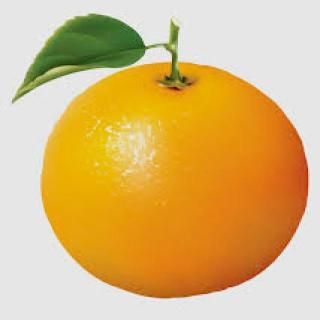orange: (33, 17, 316, 320)
